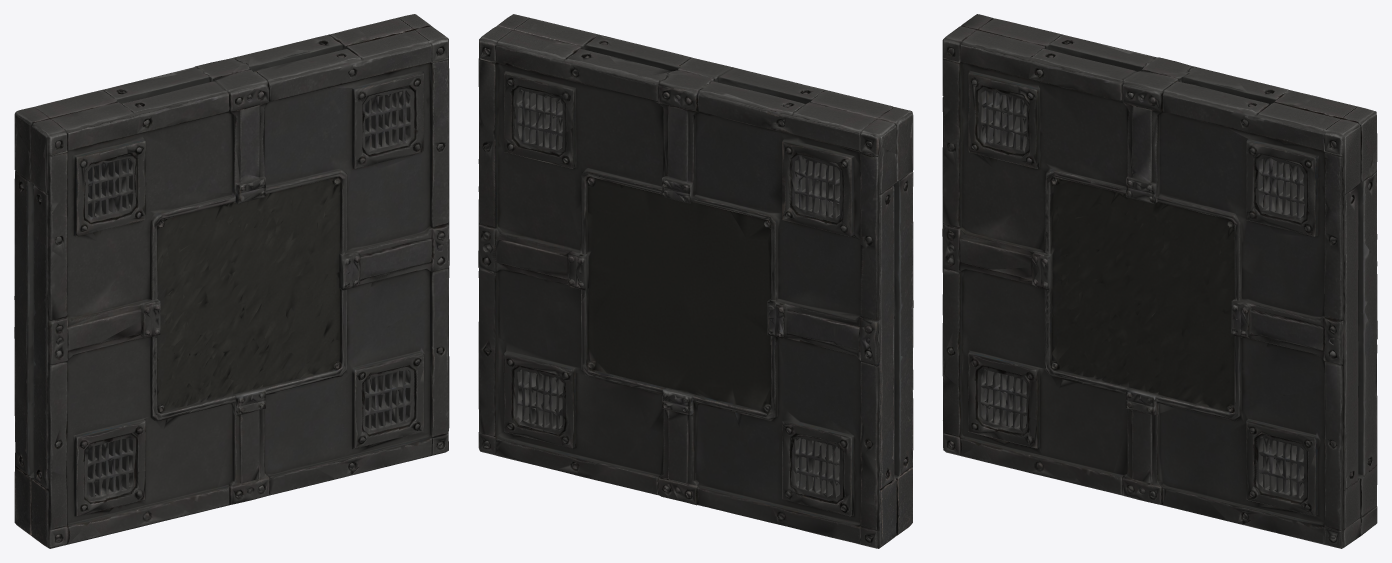
File: metal_floor_panel.glb
3 views of the same model, side by side, from view 1: azimuth 30°, elevation 25°; view 2: azimuth 150°, elevation 25°; view 3: azimuth 330°, elevation 25° (orthographic).
Bounding box in the file's own units: 0.9797 × 0.9654 × 0.1756.
1 material, 1 textured.
